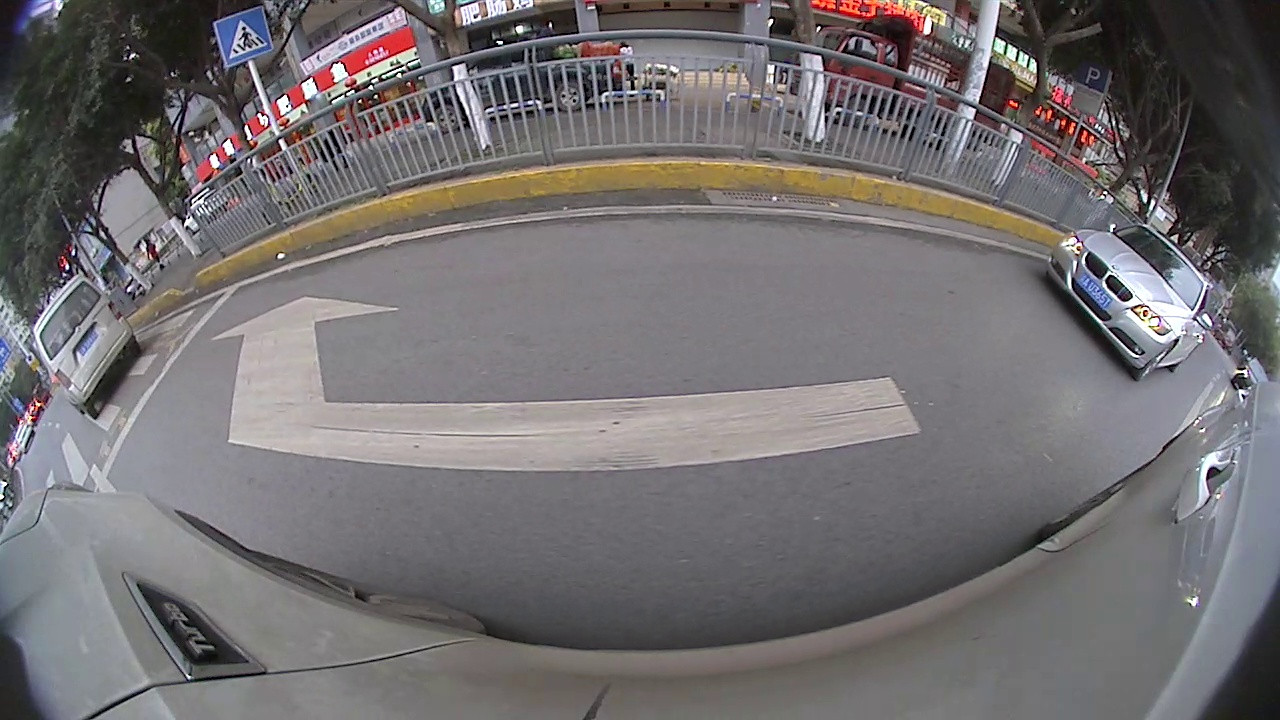car: (1039, 215, 1223, 387), (417, 34, 629, 141), (25, 269, 147, 421)
front: (431, 107, 464, 133)
rear: (551, 76, 590, 114)
truck: (784, 11, 1017, 154)
